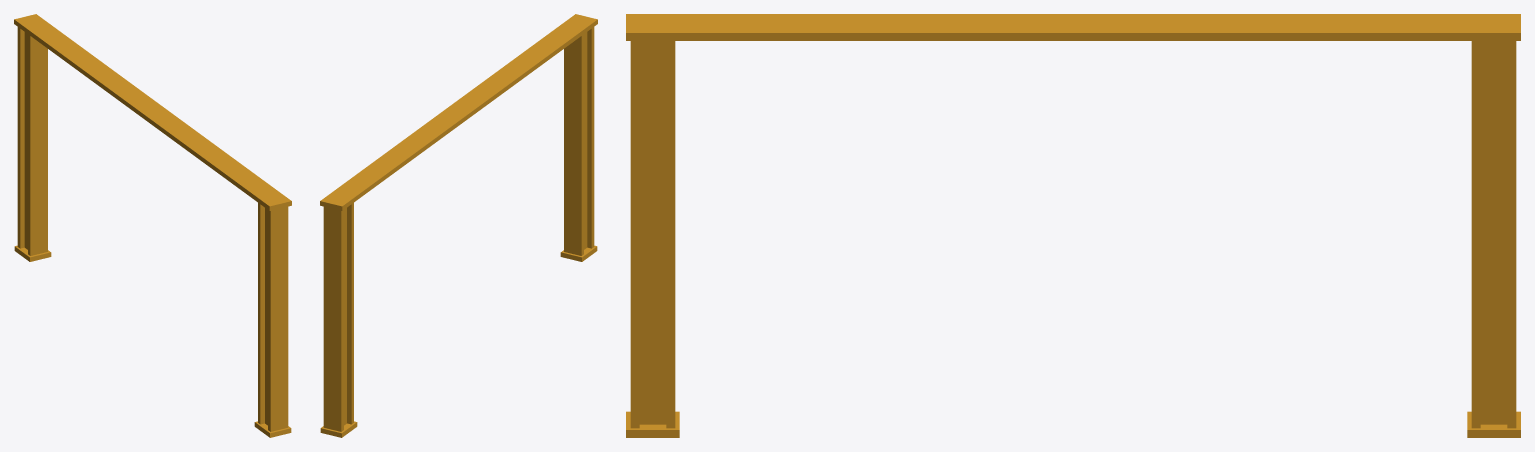
Rendered from Catwalk_Support_1m.fbx.
3 renders of one model, left to right at view 1: azimuth 30°, elevation 25°; view 2: azimuth 150°, elevation 25°; view 3: azimuth 270°, elevation 25°, orthographic. The views are drawn at different scales.
Parts seen in each view (by area): view 1: Catwalk_Support_1m; view 2: Catwalk_Support_1m; view 3: Catwalk_Support_1m.
Part boxes in pixels (left/top/right/bottom): Catwalk_Support_1m: left=14, top=14, right=291, bottom=437; Catwalk_Support_1m: left=320, top=14, right=597, bottom=437; Catwalk_Support_1m: left=626, top=14, right=1520, bottom=437.
Bounding box in the file's own units: 10 × 100 × 200.
